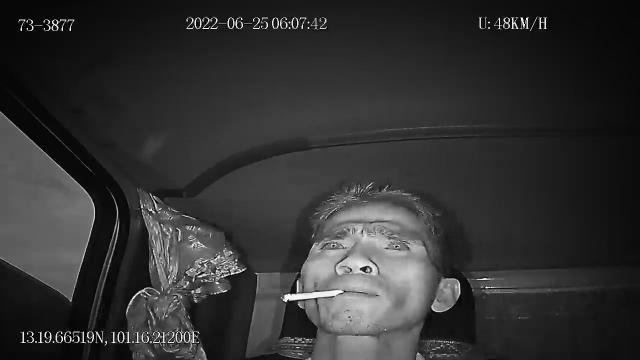SafeDriving: (373, 232, 415, 256), (315, 234, 353, 255)
Smoking: (282, 286, 346, 304)
